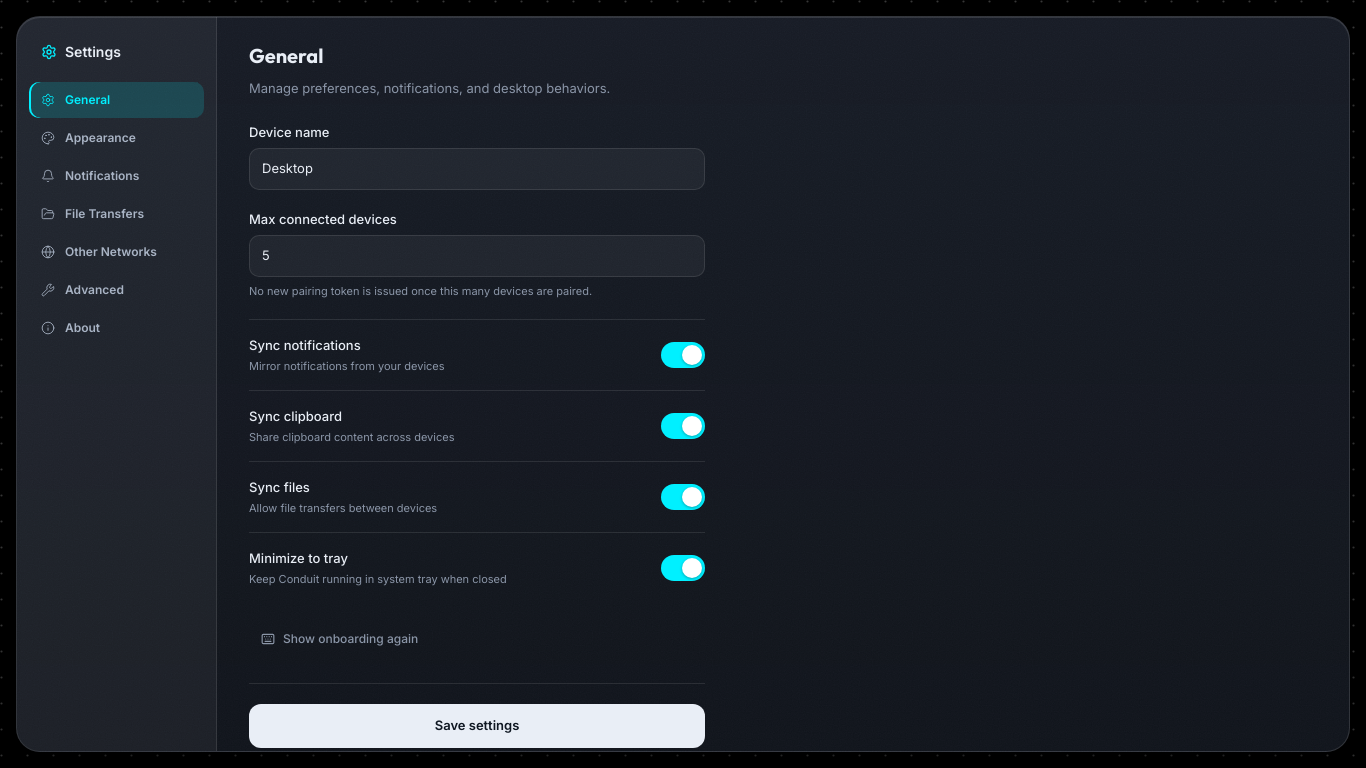
Test: Settings › can switch to Appearance category
The image size is (1366, 768).
Check: the text "Settings" is shown, box [65,41,121,62]
Click the button "Appearance" at (116, 138), box [29,120,204,156]
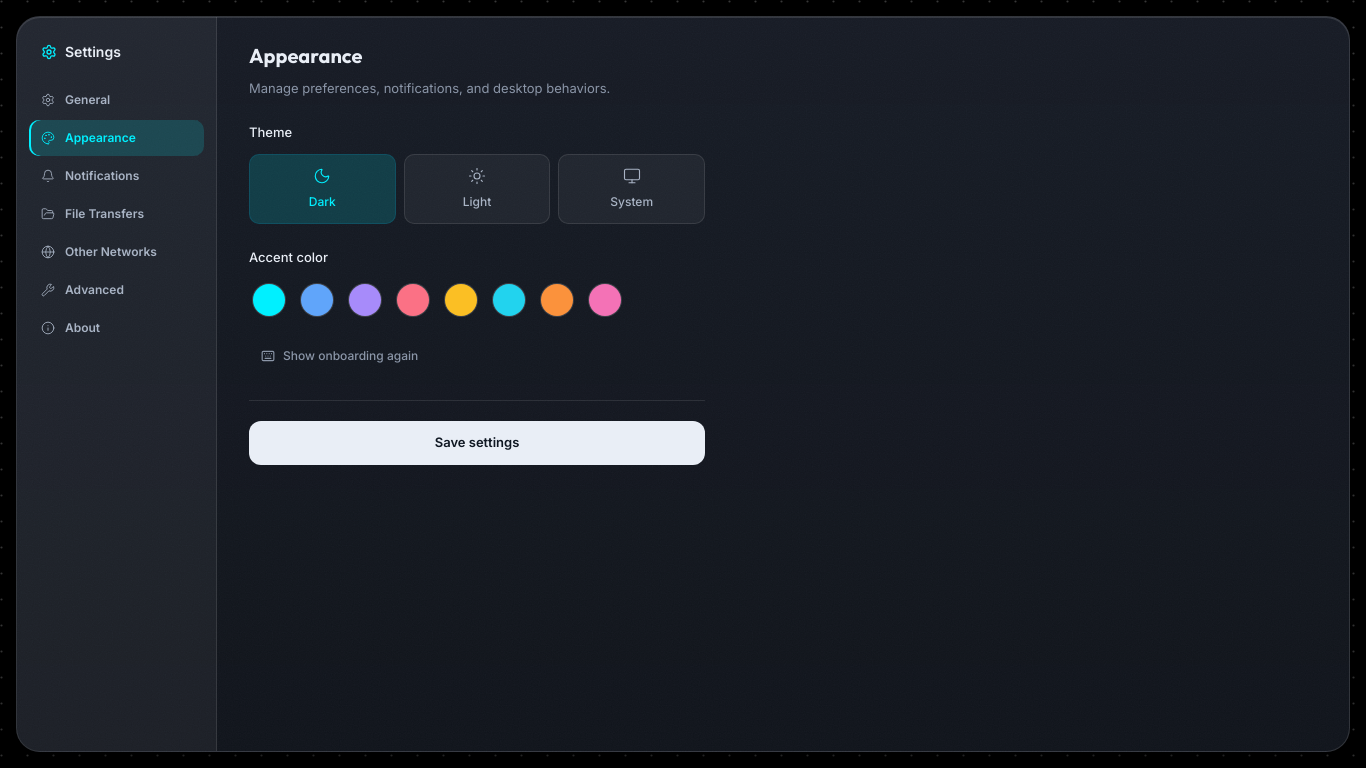
Check: the text "Theme" is shown, box [249,124,292,140]
Check: the text "Accent color" is shown, box [249,249,328,265]
